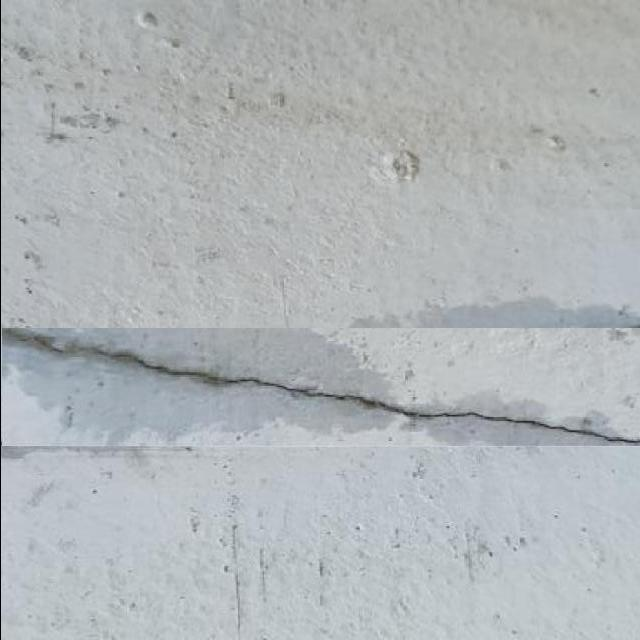crack: (3, 325, 639, 447), (3, 321, 634, 347)
